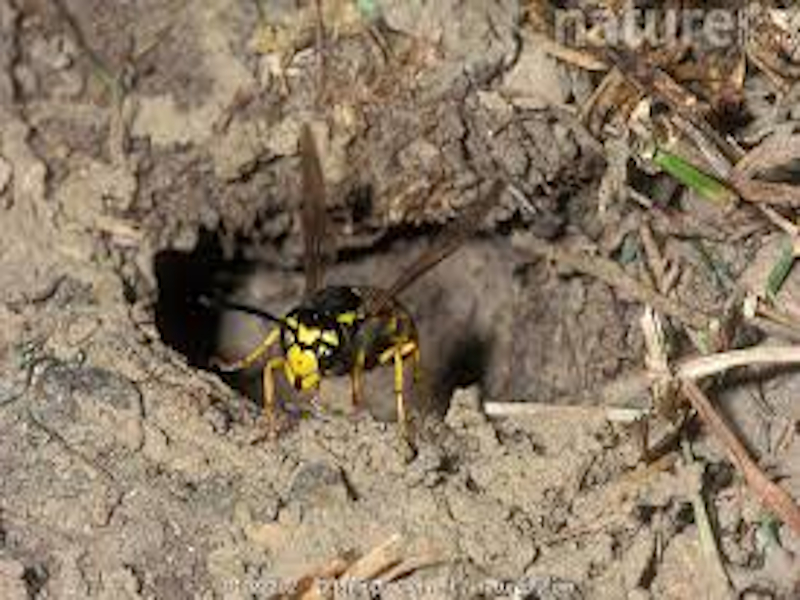chax: (205, 125, 481, 446)
